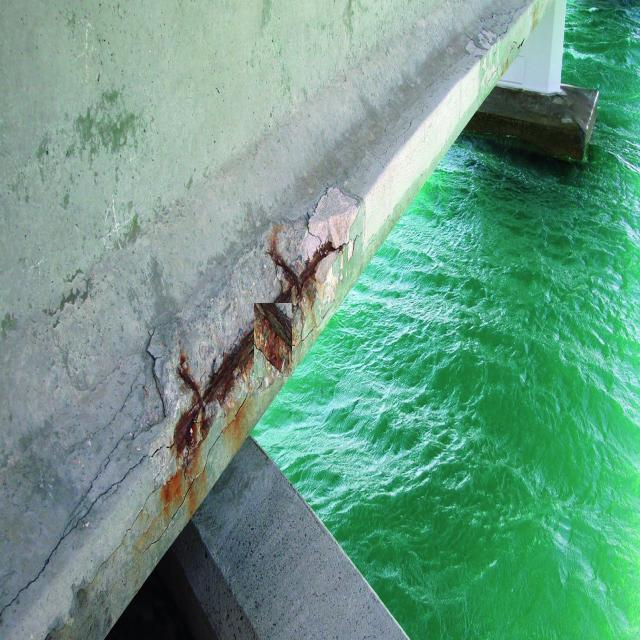Corrosion: (255, 220, 322, 304), (174, 378, 221, 454), (206, 330, 253, 406), (255, 304, 292, 352), (303, 234, 343, 262)
